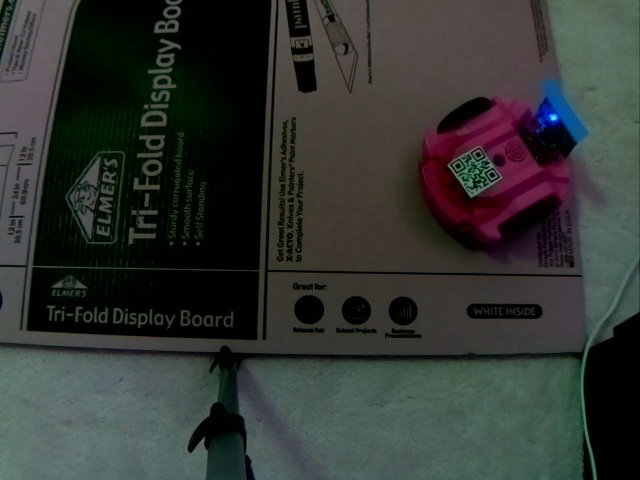chassis: (419, 76, 587, 243)
qr: (444, 146, 502, 200)
